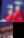potion: (0, 0, 13, 22), (13, 0, 24, 22)
